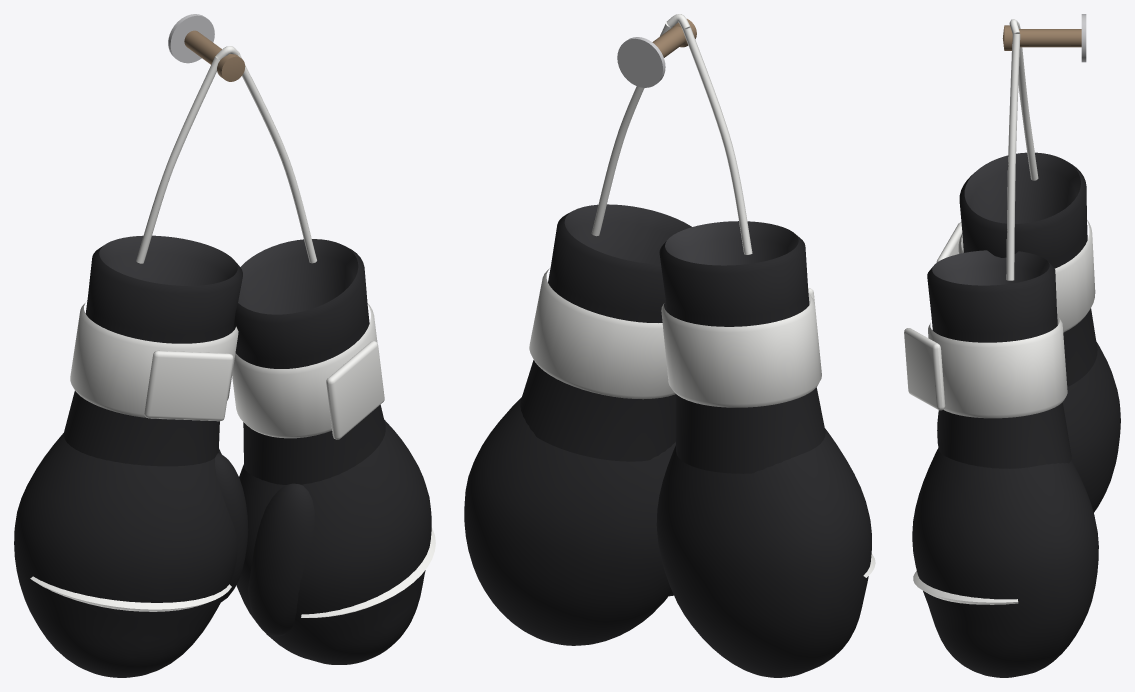
File: gloves.glb
The picture shows the model from 3 angles, left to right: view 1: azimuth 30°, elevation 25°; view 2: azimuth 150°, elevation 25°; view 3: azimuth 270°, elevation 25°; orthographic projection. The views are drawn at different scales.
Visible parts, largest first — view 1: pair_geo, peg_geo; view 2: pair_geo, peg_geo; view 3: pair_geo, peg_geo.
Part boxes in pixels (bbox=[...]): pair_geo: bbox=[14, 46, 435, 677]; peg_geo: bbox=[168, 14, 245, 81]; pair_geo: bbox=[464, 14, 875, 677]; peg_geo: bbox=[617, 19, 696, 87]; pair_geo: bbox=[904, 19, 1120, 677]; peg_geo: bbox=[1002, 14, 1086, 62].
Size of the model in its own units: 0.2781 by 0.4393 by 0.1431.
